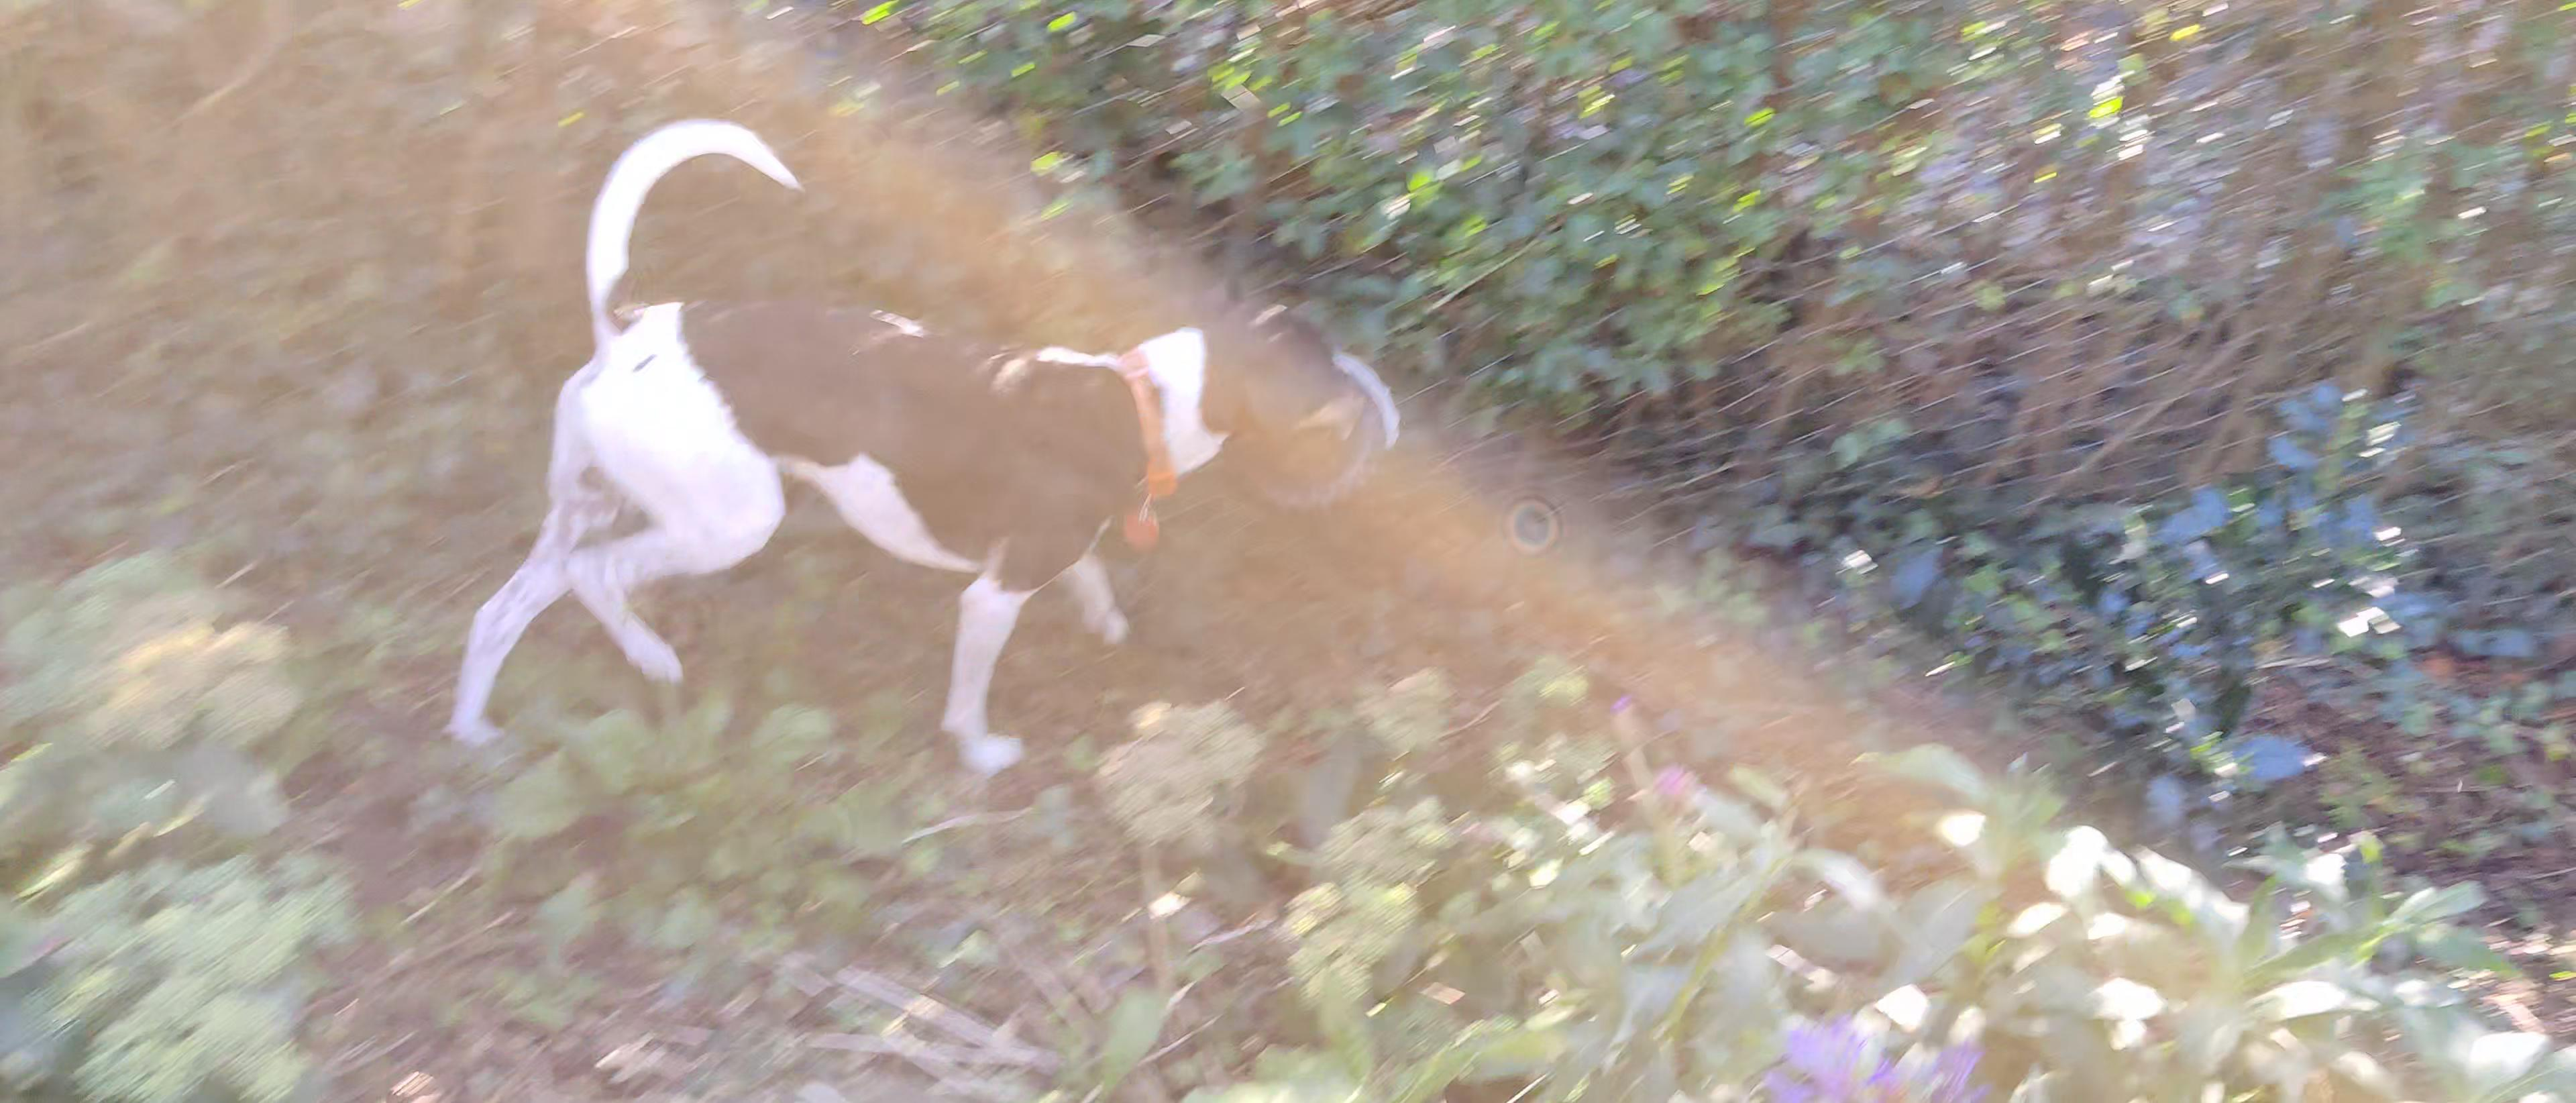Dog: (434, 112, 1364, 778)
